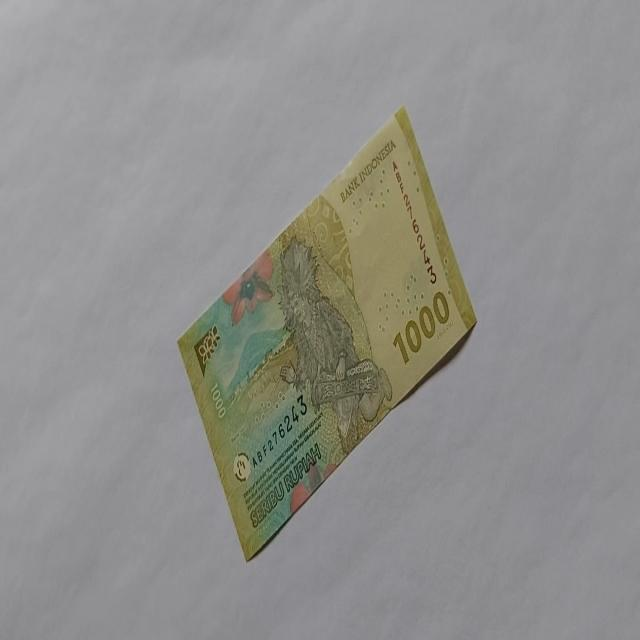seribu rupiah kertas: (176, 104, 477, 562)
